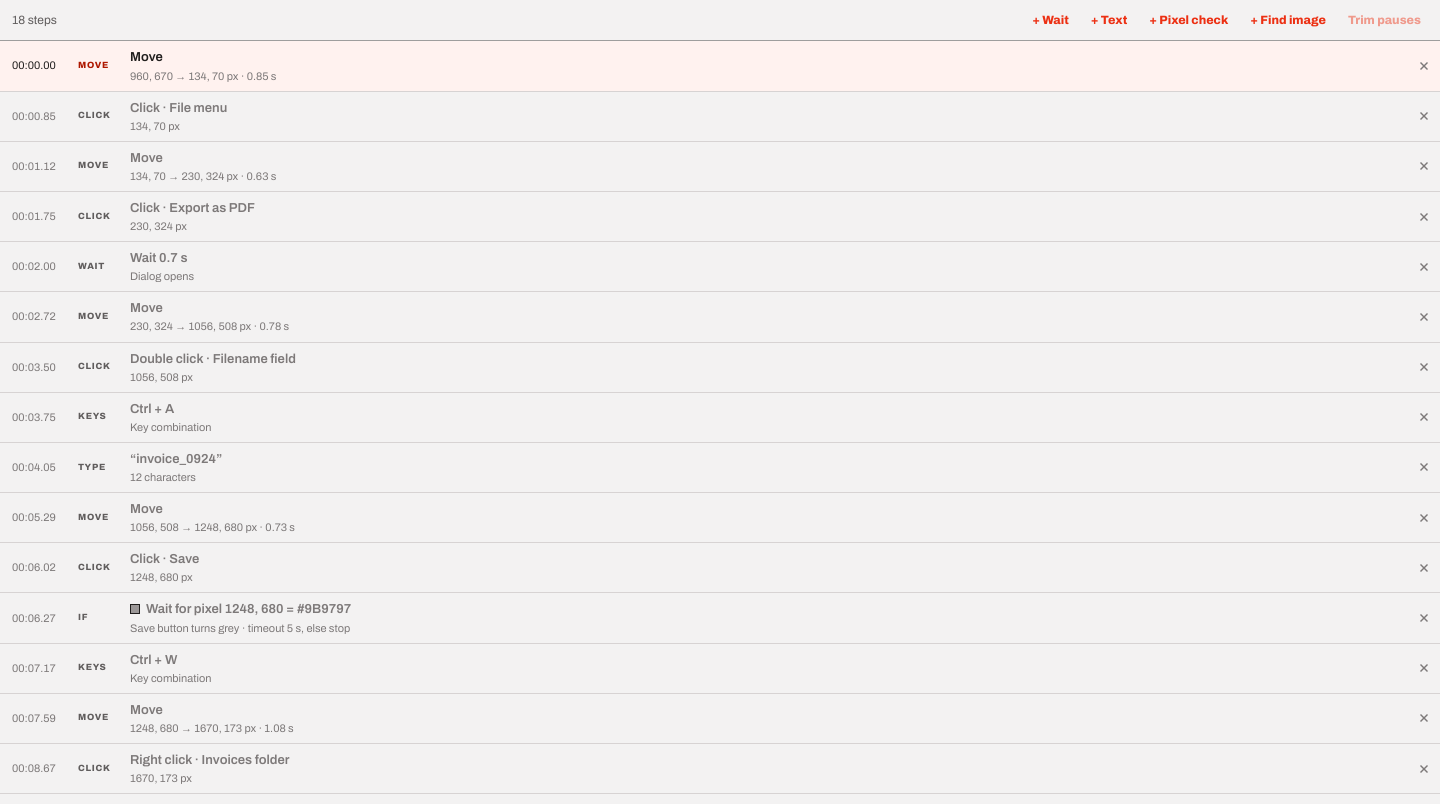
Test: Steps tab › the editor stays with its step when an earlier step is deleted
The image size is (1440, 804).
Step 1. Click the button "00:01.12 MOVE Move 134, 70 → 230, 324 px · 0.63 s" → (34, 166), box [0,142,1439,192]
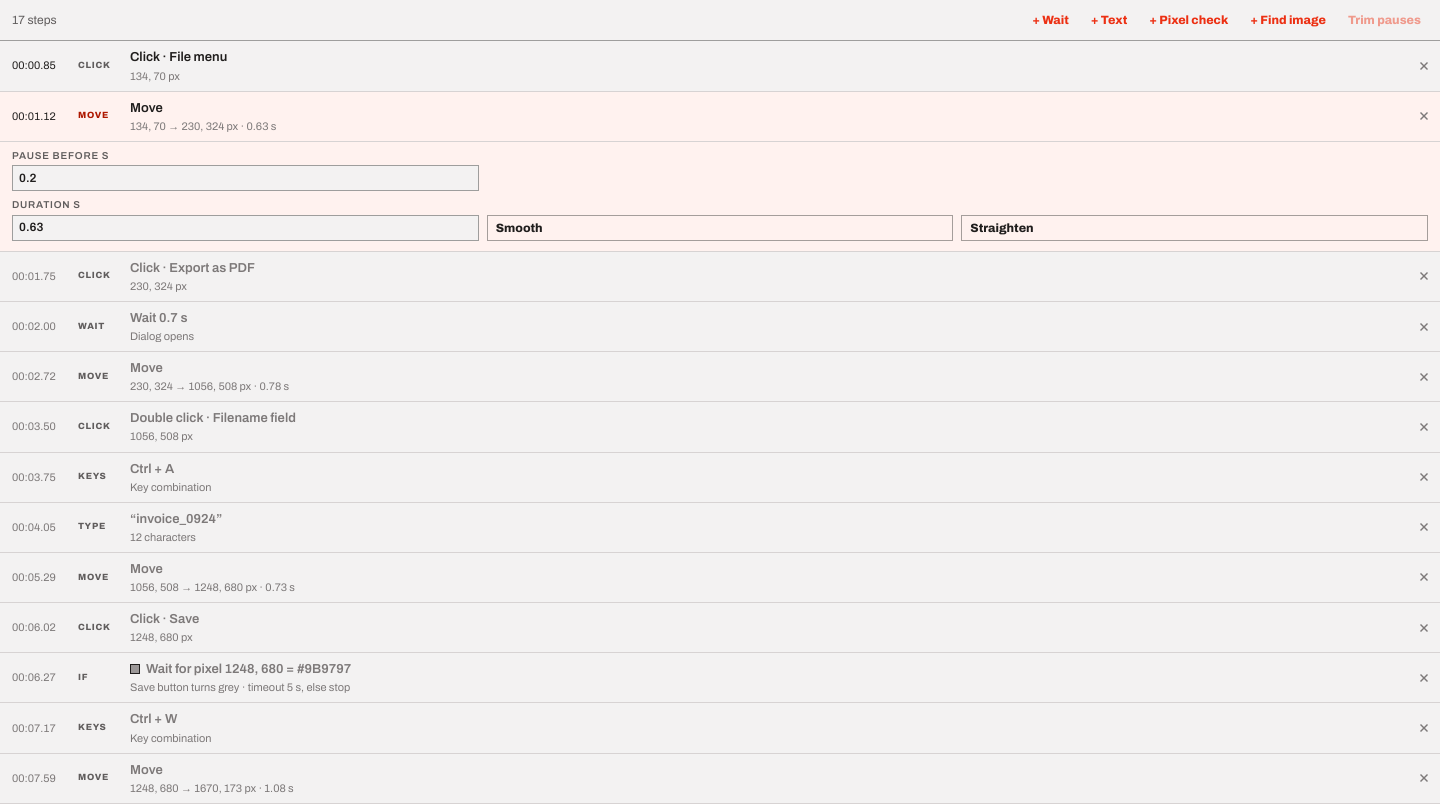
expect the button "00:01.12 MOVE Move 134, 70 → 230, 324 px · 0.63 s" is expanded: met, box [0,92,1439,142]
